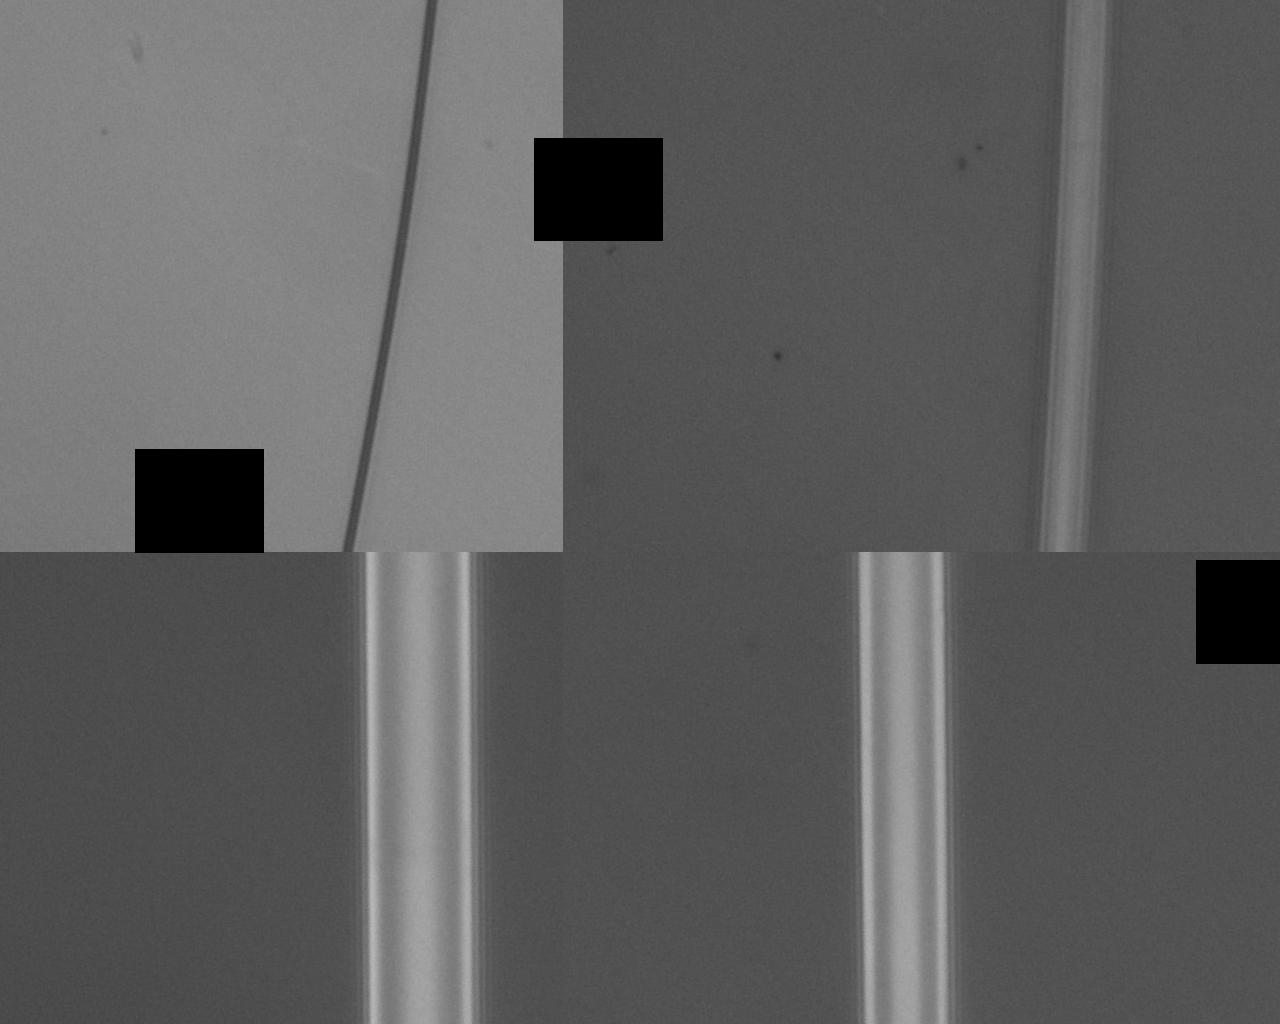fiber: (341, 0, 440, 552), (365, 552, 478, 1024), (855, 552, 950, 1024), (1038, 0, 1113, 552)
